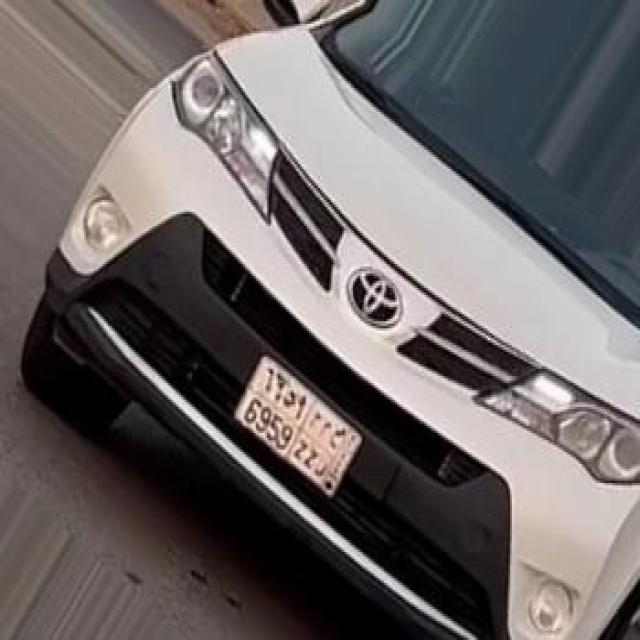Car-plate: (215, 338, 375, 512)
